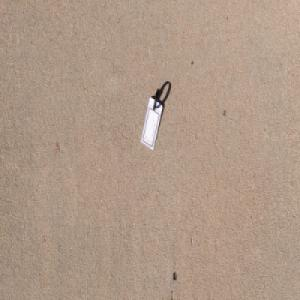LuggageTag: (140, 86, 163, 151)
